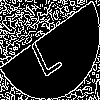L: (25, 24, 64, 79)
